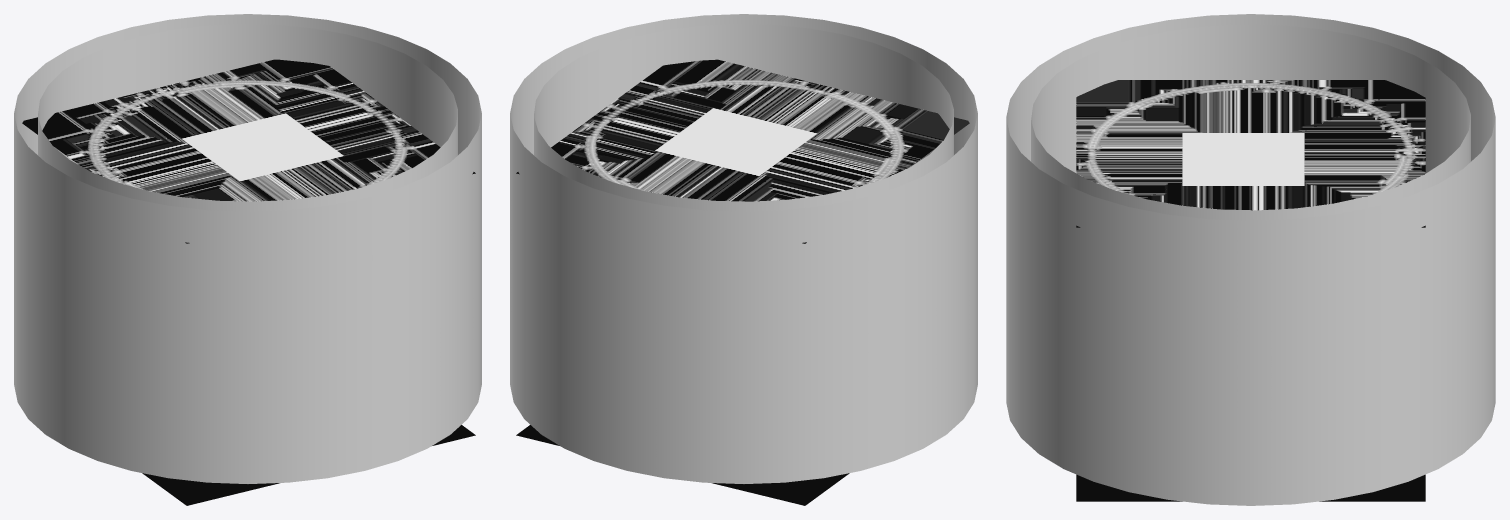
3 renders of one model, left to right at view 1: azimuth 30°, elevation 25°; view 2: azimuth 150°, elevation 25°; view 3: azimuth 270°, elevation 25°, orthographic. The views are drawn at different scales.
Visible parts, largest first — view 1: tube1, mid, tube2, base; view 2: tube1, mid, tube2, base; view 3: tube1, mid, tube2, base.
Part boxes in pixels (bbox=[...]): tube1: bbox=[14, 14, 481, 483]; mid: bbox=[22, 59, 475, 243]; tube2: bbox=[38, 24, 457, 211]; base: bbox=[142, 425, 475, 505]; tube1: bbox=[510, 14, 977, 483]; mid: bbox=[516, 59, 969, 243]; tube2: bbox=[534, 24, 953, 211]; base: bbox=[516, 425, 849, 505]; tube1: bbox=[1006, 14, 1495, 505]; mid: bbox=[1076, 80, 1425, 227]; tube2: bbox=[1031, 24, 1470, 220]; base: bbox=[1076, 474, 1425, 501].
Bounding box in the file's own units: 14 × 9.8 × 14.
Materials: 5 (4 with a texture image).
